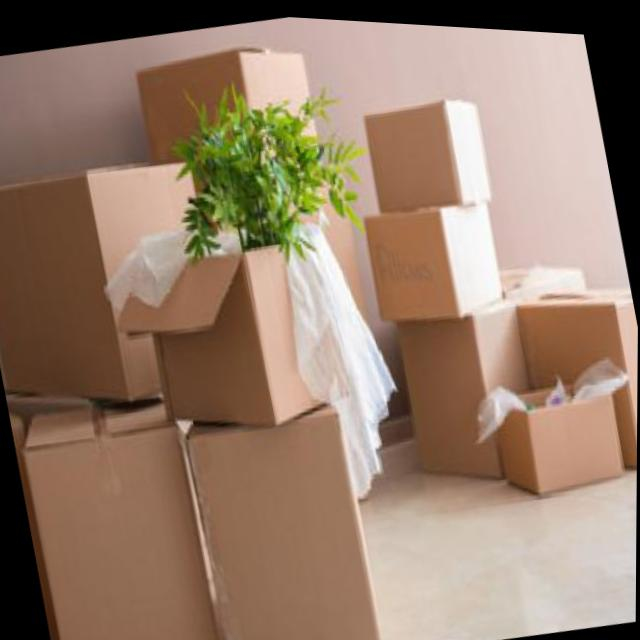box: (0, 137, 243, 447), (109, 194, 377, 442), (11, 385, 226, 640), (176, 391, 394, 640), (119, 23, 342, 257), (388, 278, 564, 536), (513, 266, 639, 487), (489, 355, 638, 509), (360, 182, 511, 331), (356, 69, 501, 219)
